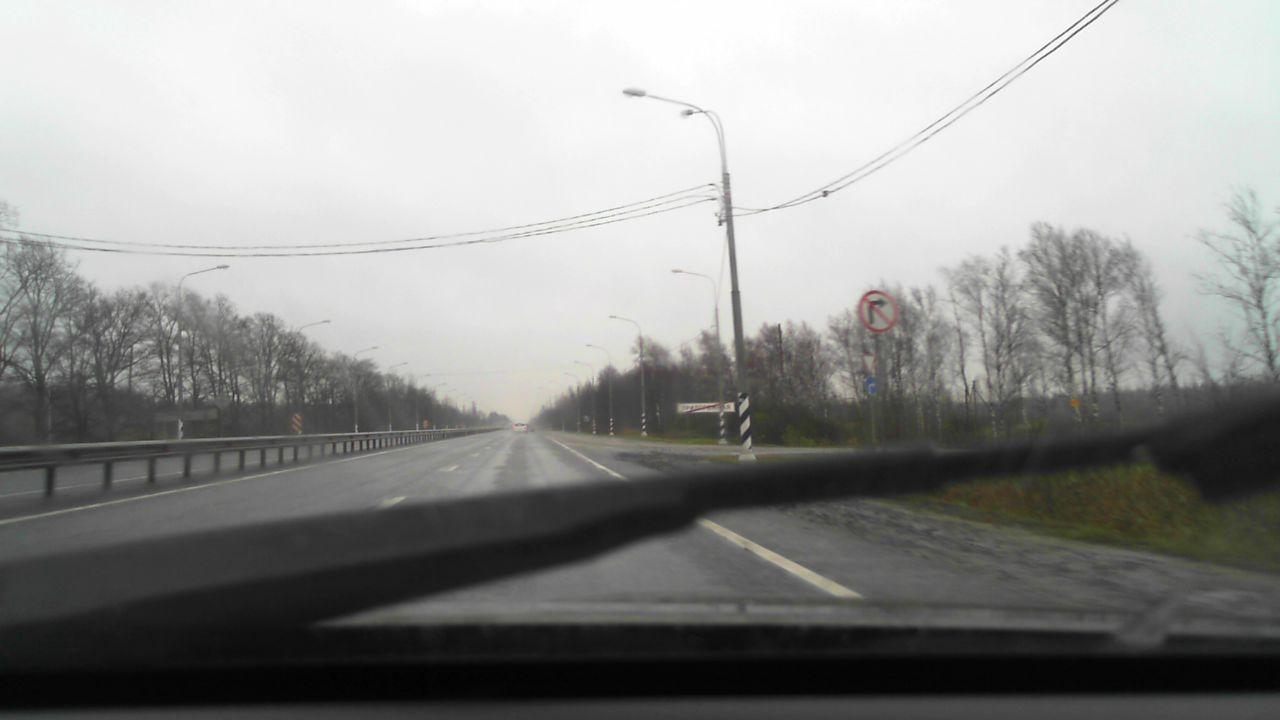2_4: (861, 352, 878, 372)
3_18_1: (858, 290, 898, 333)
4_1_2: (863, 378, 879, 395)
5_24_1: (678, 402, 738, 414)
